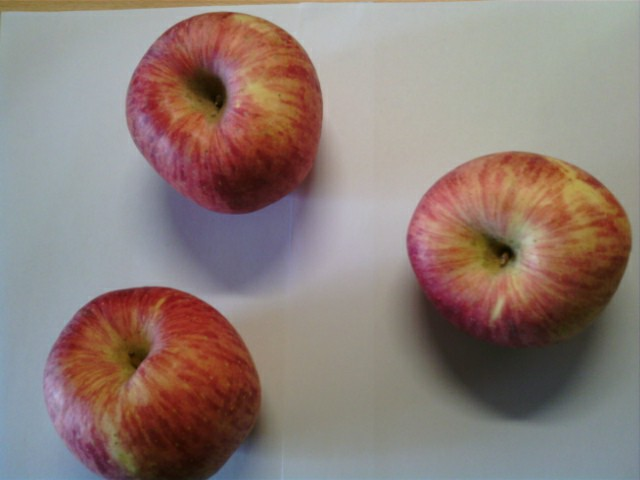normal_apple: (404, 149, 634, 355), (43, 282, 264, 480), (124, 12, 325, 219)
